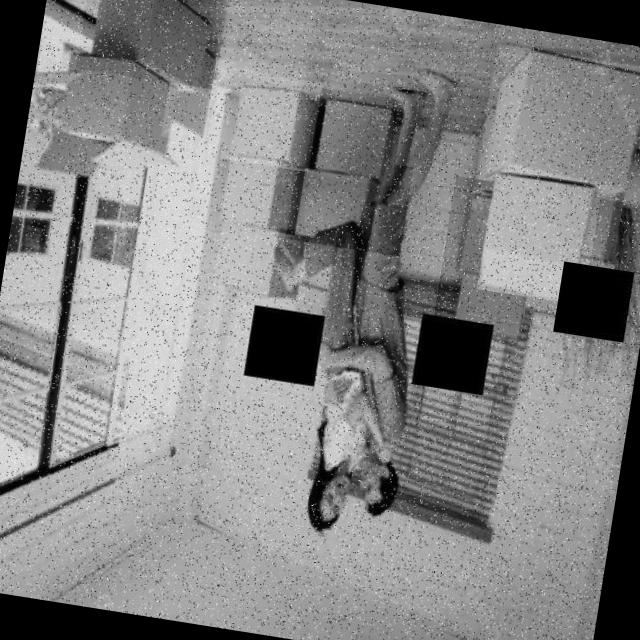box: (476, 43, 640, 206), (30, 44, 184, 202), (522, 163, 640, 341), (432, 176, 551, 342), (477, 161, 604, 306), (75, 0, 231, 90), (285, 149, 413, 257), (161, 39, 258, 150), (220, 69, 322, 172), (308, 88, 406, 188), (201, 222, 306, 312), (208, 150, 306, 240), (282, 262, 353, 349)
